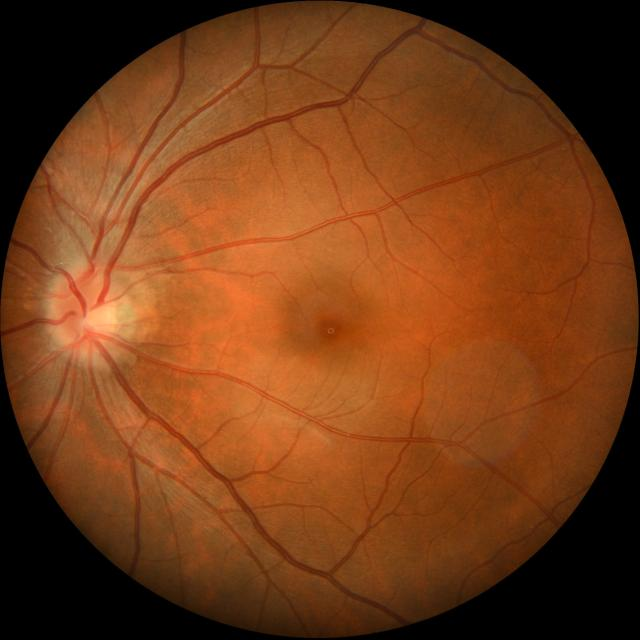OC: (82, 305, 107, 334)
OD: (52, 268, 116, 356)
